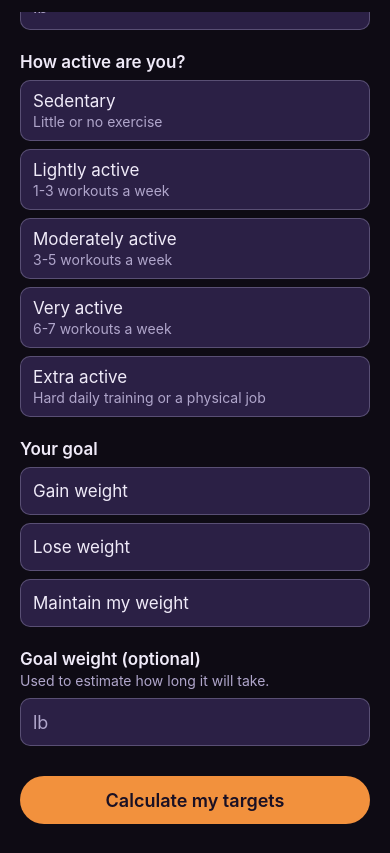
OnboardingScreen › asks for a weekly pace only when gaining or losing
This screenshot has width=390, height=853.
(page scrolled)
Expected: the text "How fast?" is not shown
Click the radio button labelled "Gain weight": (195, 491) top-left (20, 467), bottom-right (370, 515)
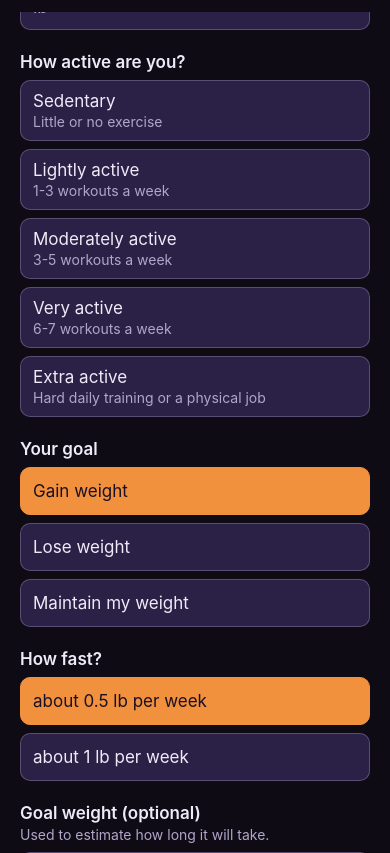
Expected: the radio button labelled "about 1.5 lb per week" is not shown
Result: the text "How fast?" is shown at top-left (20, 649), bottom-right (102, 669)
Click the radio button labelled "Lose weight": (195, 547) top-left (20, 523), bottom-right (370, 571)
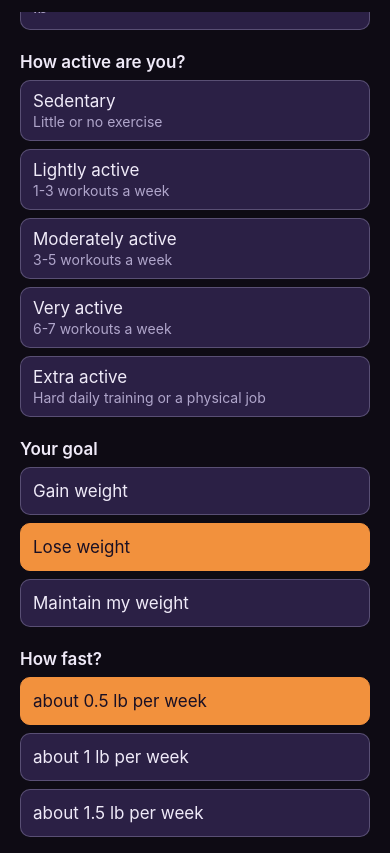
Result: the radio button labelled "about 1.5 lb per week" is shown at top-left (20, 789), bottom-right (370, 837)
Click the radio button labelled "Maintain my weight": (195, 603) top-left (20, 579), bottom-right (370, 627)
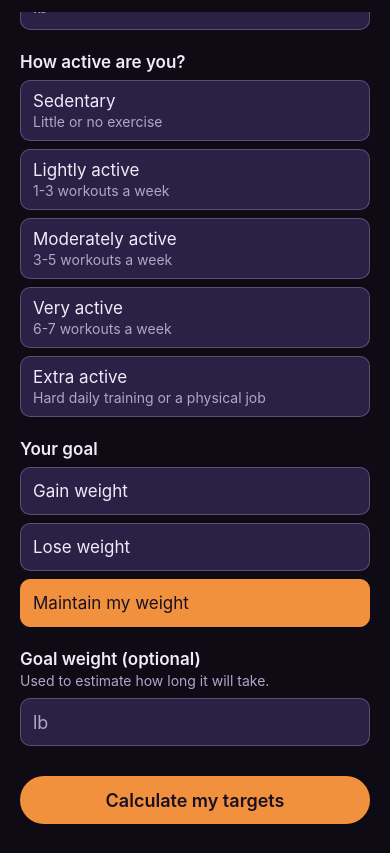
Result: the text "How fast?" is gone
